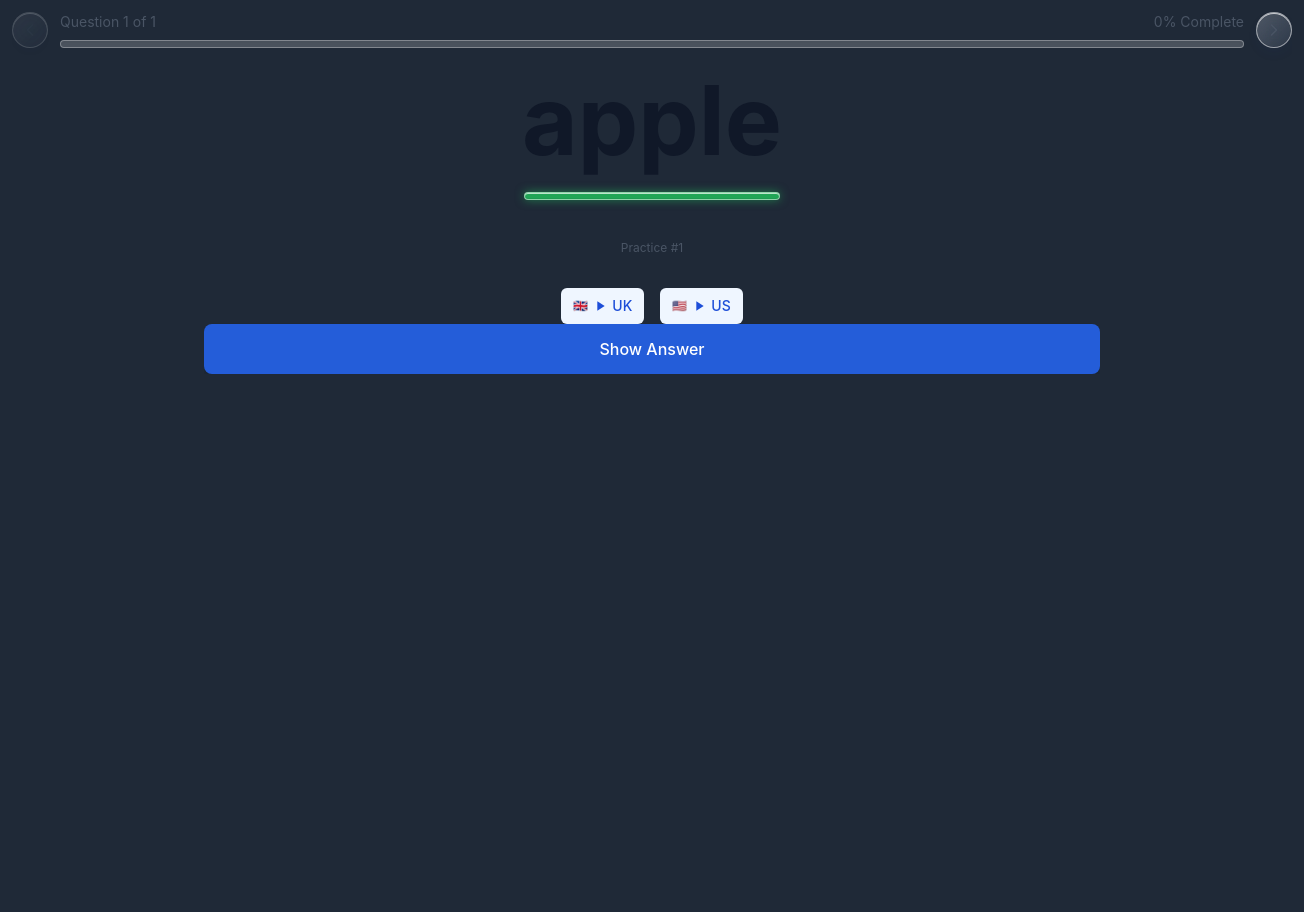
Scenario: WordQuiz › renders the current word during the question stage and reveals the rating UI after Show Answer
The image size is (1304, 912).
Expected: the button "Unfamiliar" is not shown
Click the button "Show Answer". click: (652, 349)
box: [204,324,1100,374]
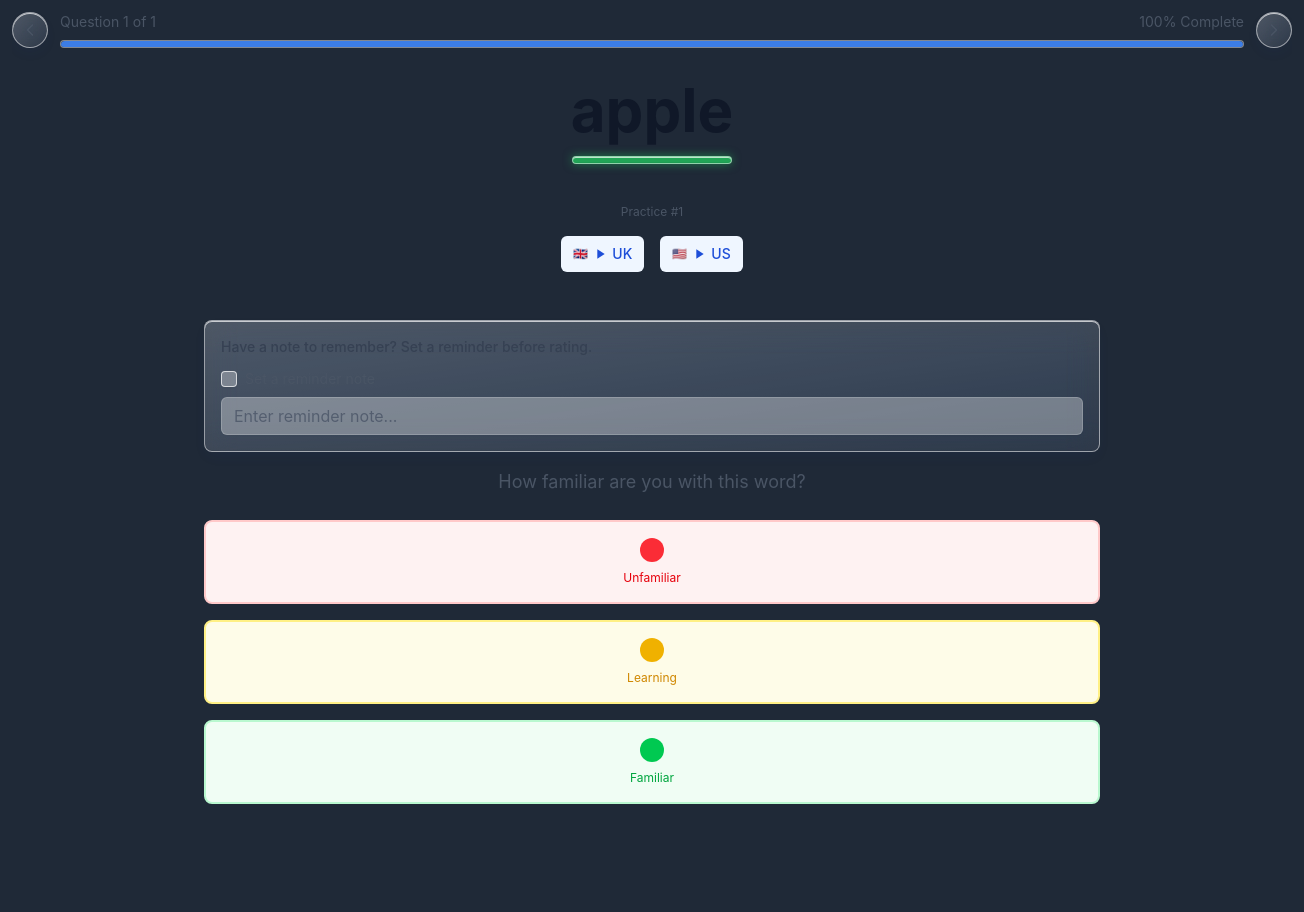
Result: the button "Unfamiliar" is shown at [204,520,1100,604]
Result: the button "Learning" is shown at [204,620,1100,704]
Result: the button "Familiar" is shown at [204,720,1100,804]
